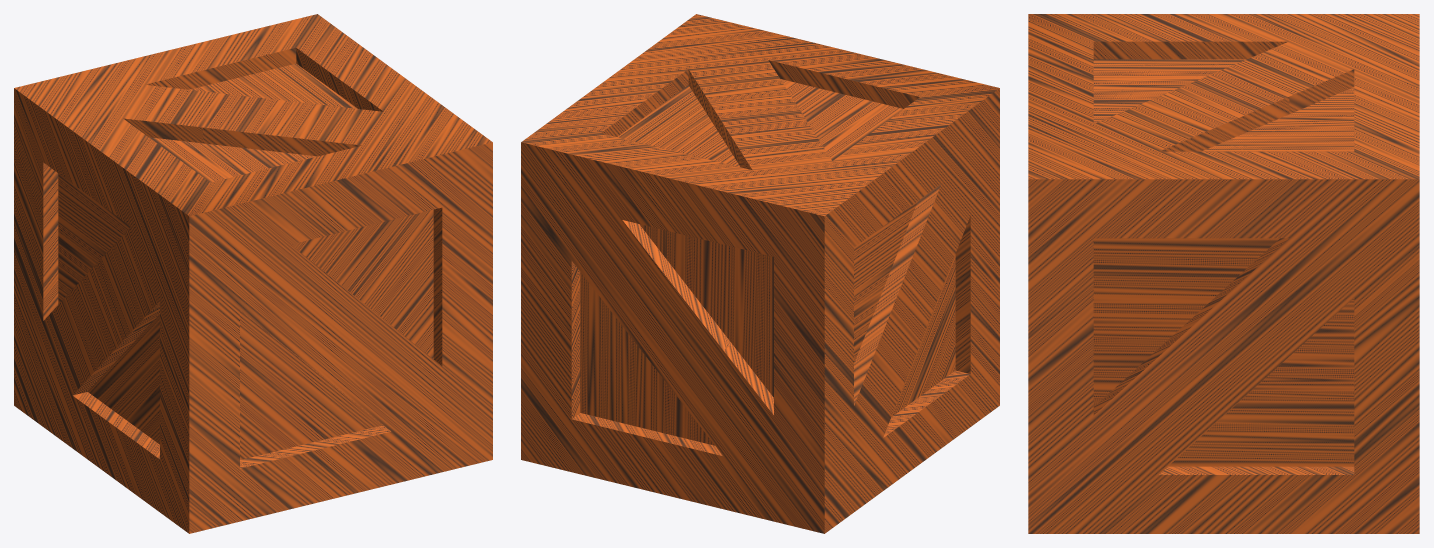
Rendered from Crate.fbx.
3 renders of one model, left to right at view 1: azimuth 30°, elevation 25°; view 2: azimuth 150°, elevation 25°; view 3: azimuth 270°, elevation 25°, orthographic. The views are drawn at different scales.
Parts seen in each view (by area): view 1: Cube; view 2: Cube; view 3: Cube.
Part boxes in pixels (x1,y1,x2,y2): Cube: [14, 14, 492, 533]; Cube: [521, 14, 999, 533]; Cube: [1028, 14, 1419, 533].
Size of the model in its own units: 200 by 200 by 200.
Materials: 1 (1 with a texture image).
